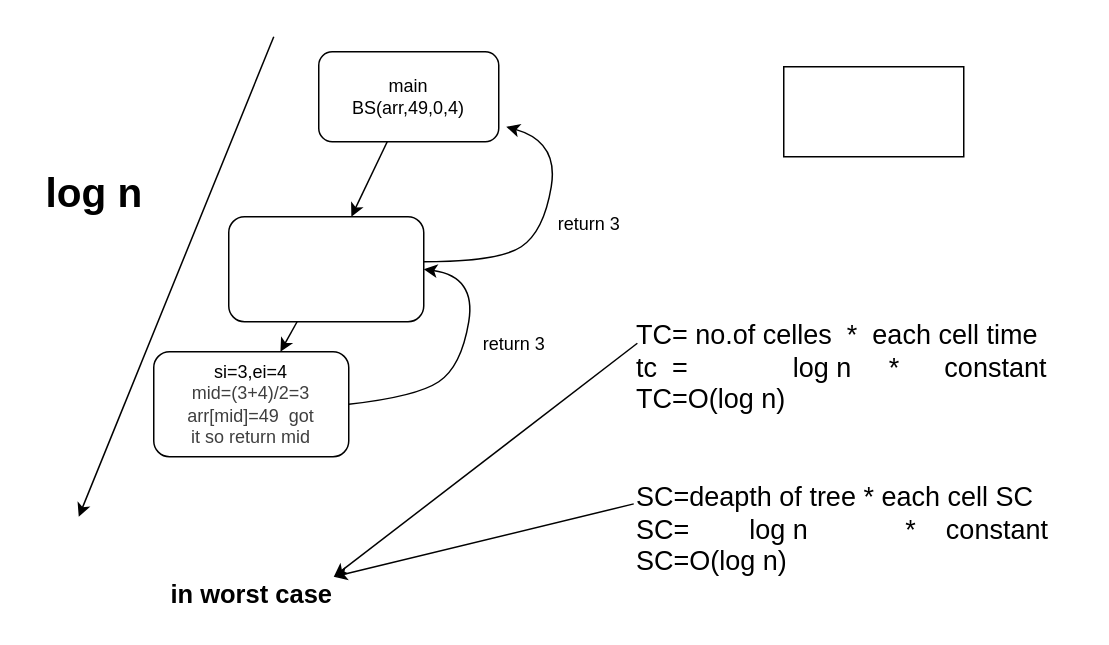
This 1109x645 diagram has some shape labels left out. Here are the shapes that lost their labels. From the top down, the centre of each, then its label:
At pixel 873 111: "arr[]={25,28,32,49,50} target=49 BS(arr,49,0,n-1=4)".
At pixel 325 268: "si=0,ei=4 mid=(0+4)/2=2 arr[mid]<49 X so return LS(arr,mid+1,4)".
